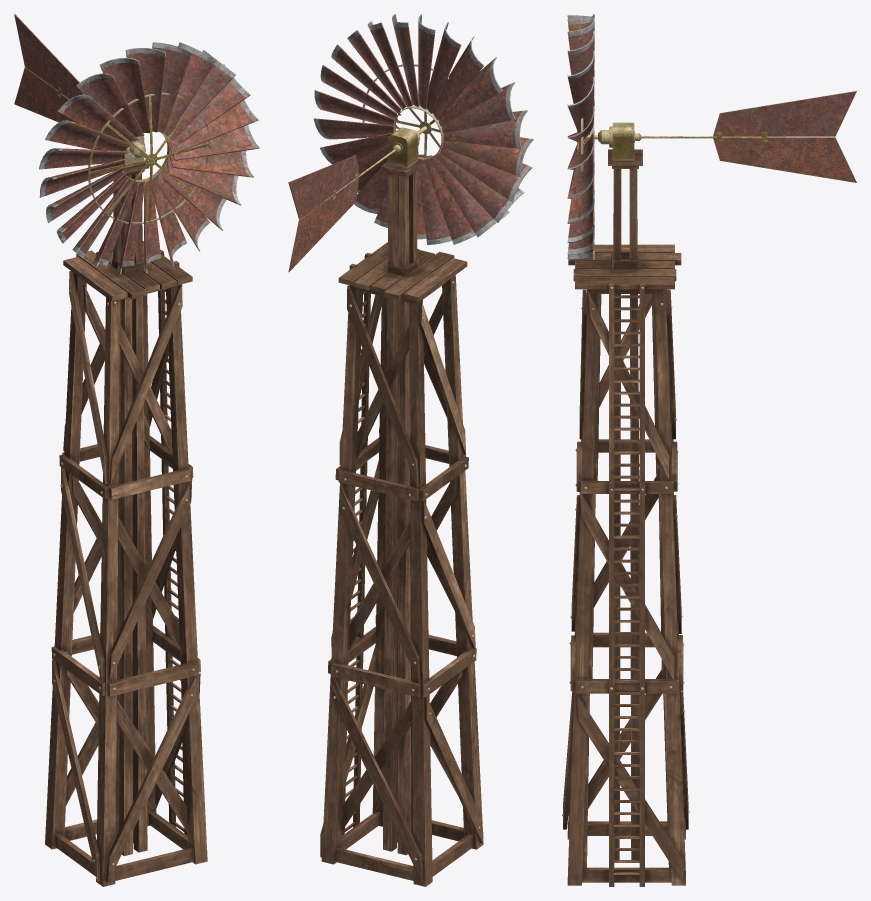
The model's file is Mill.fbx.
The picture shows the model from 3 angles, left to right: view 1: azimuth 30°, elevation 25°; view 2: azimuth 150°, elevation 25°; view 3: azimuth 270°, elevation 25°; orthographic projection. The views are drawn at different scales.
Visible parts, largest first — view 1: WindMill; view 2: WindMill; view 3: WindMill.
Boxes of the visible parts, bbox=[...] form: WindMill: bbox=[14, 14, 259, 886]; WindMill: bbox=[288, 14, 533, 886]; WindMill: bbox=[562, 14, 856, 886].
Bounding box in the file's own units: 482 × 1809 × 580.
Materials: 1 (1 with a texture image).
